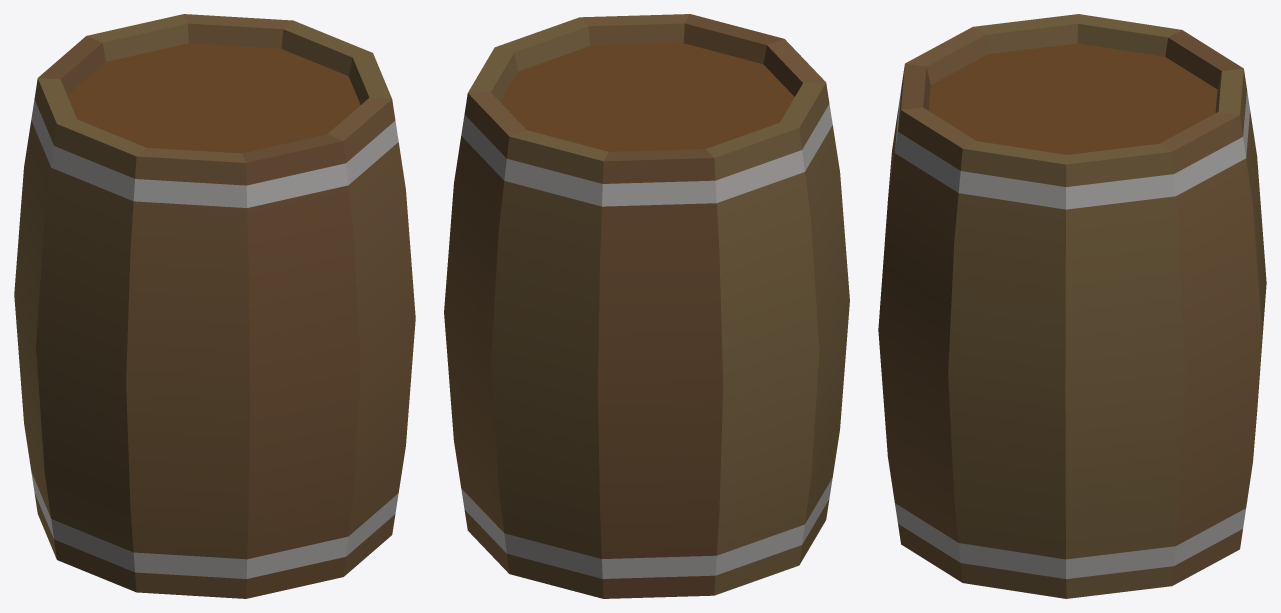
The model's file is RG-Dungeon_Barrel.fbx.
3 renders of one model, left to right at view 1: azimuth 30°, elevation 25°; view 2: azimuth 150°, elevation 25°; view 3: azimuth 270°, elevation 25°, orthographic.
Visible parts, largest first — view 1: RG-Dungeon_Barrel; view 2: RG-Dungeon_Barrel; view 3: RG-Dungeon_Barrel.
Boxes of the visible parts, x1,y1,x2,y2 form: RG-Dungeon_Barrel: (14,14,415,598); RG-Dungeon_Barrel: (444,14,849,598); RG-Dungeon_Barrel: (878,14,1266,598).
Size of the model in its own units: 4.6 by 5.47 by 4.43.
